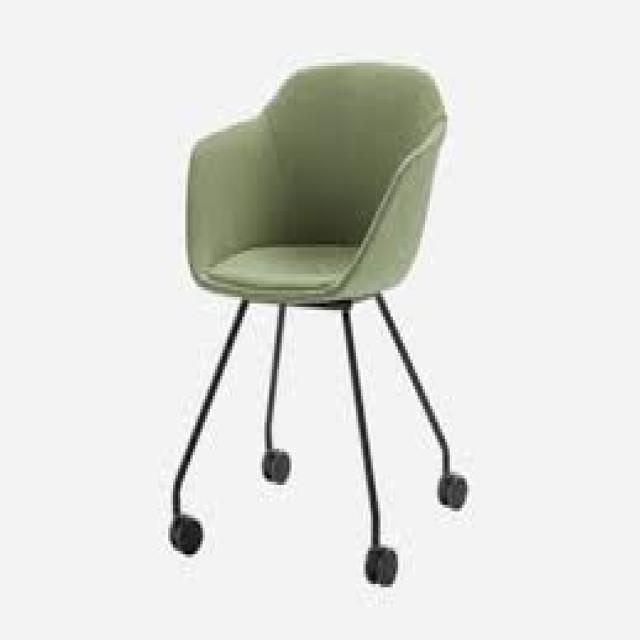chair: (86, 30, 519, 622)
